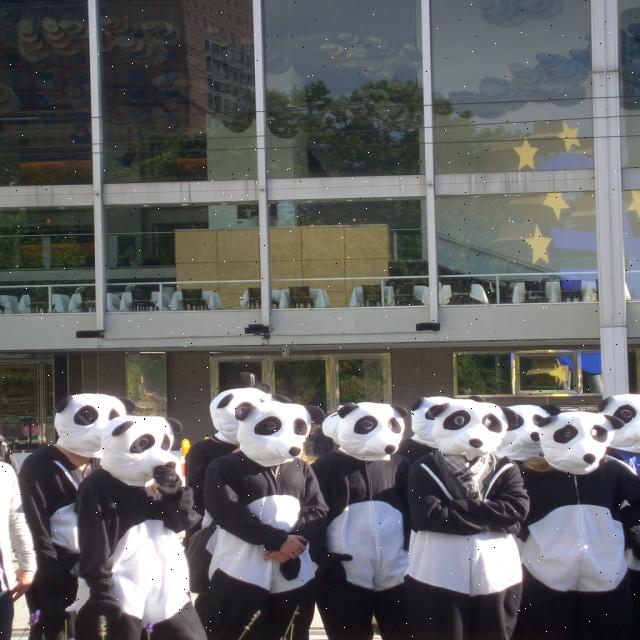panda: (15, 388, 639, 640)
